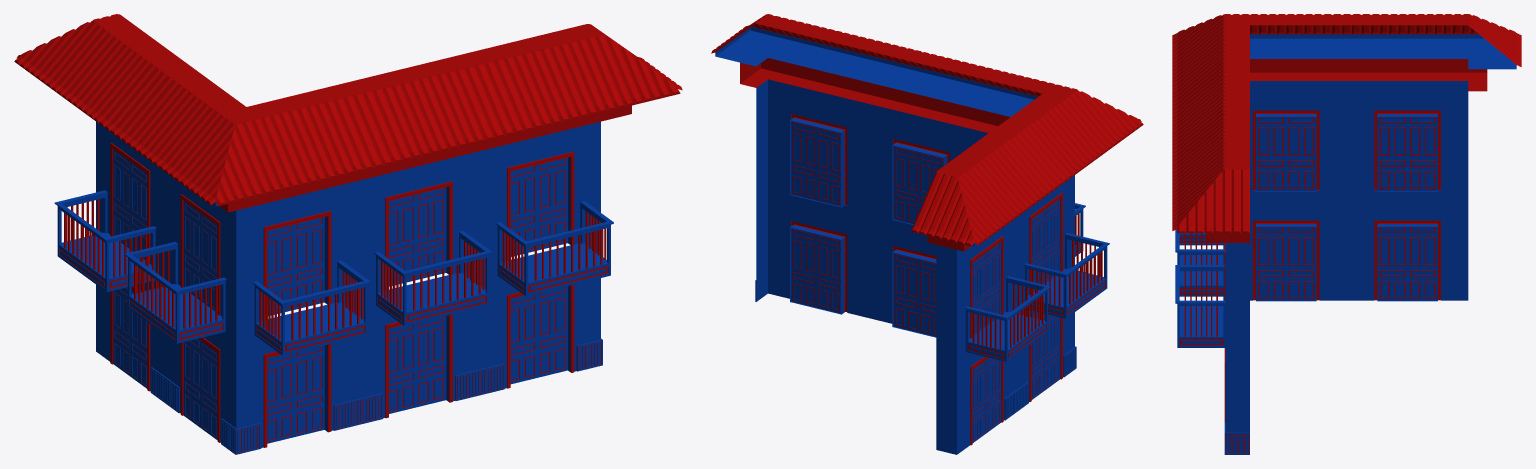
Rendered from House03.fbx.
3 views of the same model, side by side, from view 1: azimuth 30°, elevation 25°; view 2: azimuth 150°, elevation 25°; view 3: azimuth 270°, elevation 25° (orthographic). The views are drawn at different scales.
Visible parts, largest first — view 1: RoofCorner5, Roof3M12, Roof3M10, Roof3M11, Balcony06, Balcony05, Balcony07, Balcony08, Balcony09, Roof3M13, Roof3M14, Door06 (+44 smaller); view 2: RoofCorner7, Wall2M14, Wall2M16, Balcony09, Door09, Door06, Balcony08, Roof3M13, Roof3M14, WallCorner10, WallCorner12, WallCorner14 (+34 smaller); view 3: Wall2M17, Wall2M18, RoofCorner6, Door11, Door10, Door13, Door12, WallFrameDoor16, WallFrameDoor15, WallFrameDoor17, WallFrameDoor18, RoofCorner7 (+21 smaller).
Part boxes in pixels (x1,y1,x2,y2): RoofCorner5: (169,107,291,206); Roof3M12: (490,30,607,128); Roof3M10: (247,89,364,188); Roof3M11: (368,59,485,158); Balcony06: (374,231,492,325); Balcony05: (252,260,370,355); Balcony07: (495,201,613,296); Balcony08: (124,241,226,343); Balcony09: (54,190,156,292); Roof3M13: (127,76,245,174); Roof3M14: (56,25,175,122); Door06: (510,286,567,384); RoofCorner7: (910,163,1013,246); Wall2M14: (850,206,890,323); Wall2M16: (850,99,890,216); Balcony09: (964,276,1050,361); Door09: (790,119,842,207); Door06: (790,226,842,314); Balcony08: (1024,233,1109,318); Roof3M13: (1008,93,1107,176); Roof3M14: (948,137,1048,219); WallCorner10: (756,186,788,301); WallCorner12: (756,79,788,194); WallCorner14: (936,342,968,454); Wall2M17: (1322,191,1371,300); Wall2M18: (1322,81,1371,190); RoofCorner6: (1172,158,1249,233); Door11: (1256,114,1316,191); Door10: (1256,224,1316,301); Door13: (1377,114,1437,191); Door12: (1377,224,1437,301); WallFrameDoor16: (1250,81,1322,190); WallFrameDoor15: (1250,191,1322,300); WallFrameDoor17: (1371,191,1443,300); WallFrameDoor18: (1371,81,1443,190); RoofCorner7: (1444,14,1521,69).
Bounding box in the file's own units: 1940 × 1300 × 1440.
